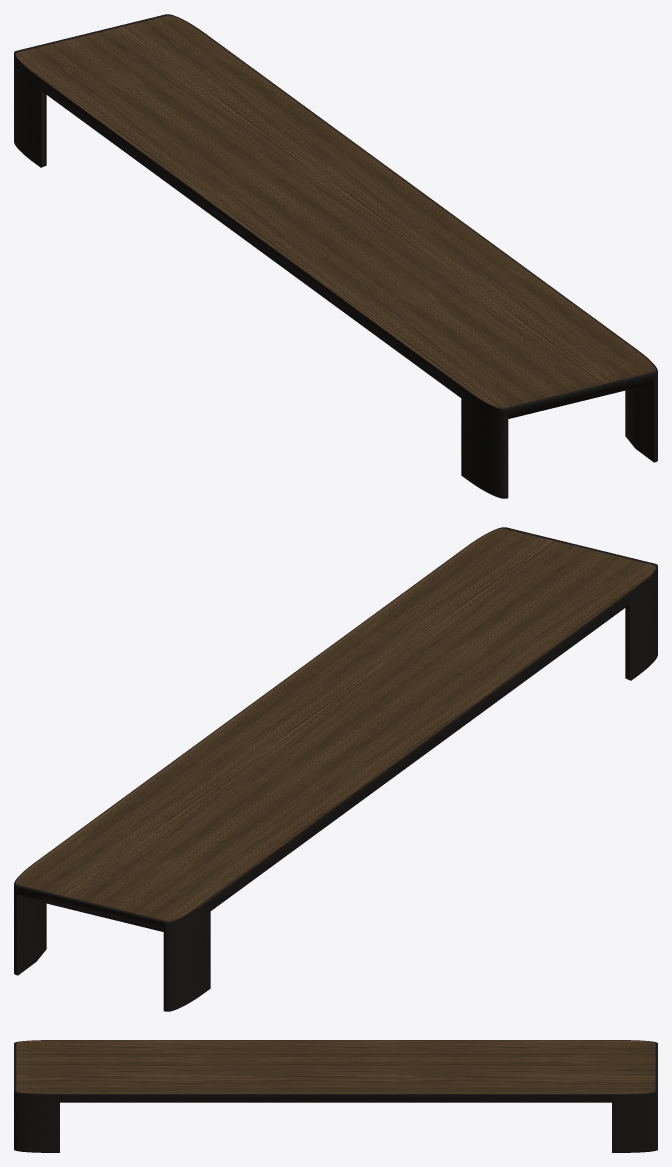
File: Table.fbx
The picture shows the model from 3 angles, top to bottom: view 1: azimuth 30°, elevation 25°; view 2: azimuth 150°, elevation 25°; view 3: azimuth 270°, elevation 25°; orthographic projection. The views are drawn at different scales.
Visible parts, largest first — view 1: Cube, Cube.002; view 2: Cube, Cube.002; view 3: Cube, Cube.002.
Boxes of the visible parts, box(x1,y1,x2,y2) form: Cube: box(14, 14, 657, 498); Cube.002: box(41, 87, 651, 418); Cube: box(14, 527, 657, 1011); Cube.002: box(20, 600, 630, 931); Cube: box(14, 1040, 657, 1152); Cube.002: box(60, 1099, 611, 1102).
Size of the model in its own units: 70 by 35.1 by 350.
1 material, 1 textured.
